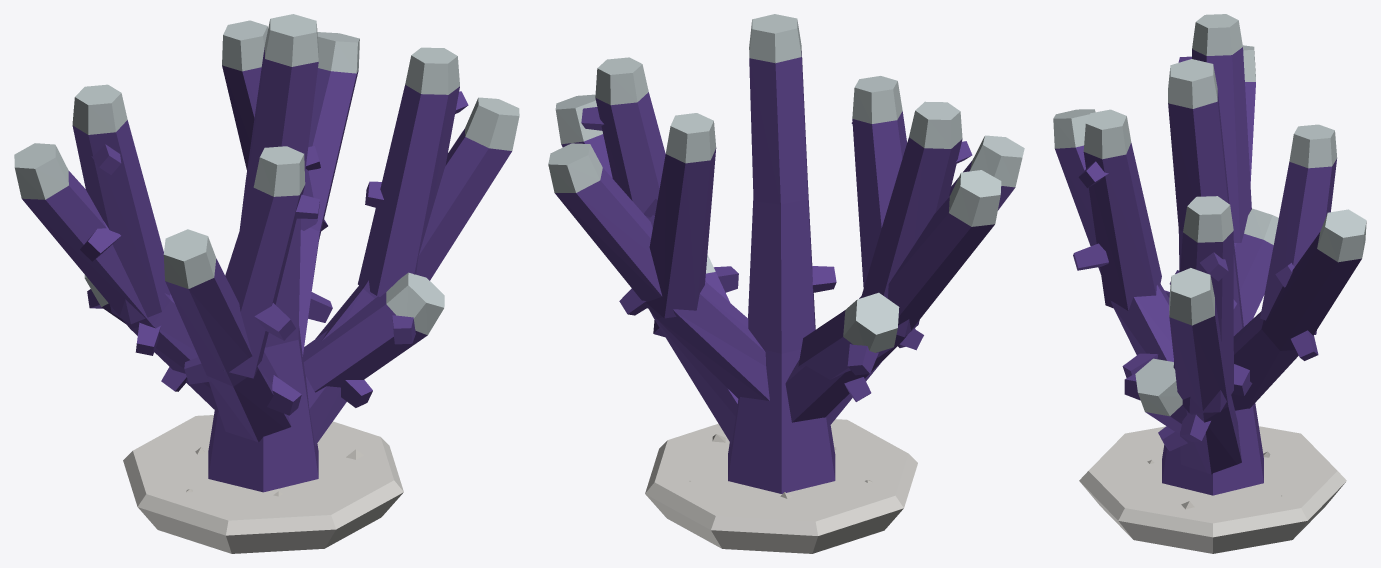
Rendered from staghorn-acropora-colony-c5c44d.glb.
3 renders of one model, left to right at view 1: azimuth 30°, elevation 25°; view 2: azimuth 150°, elevation 25°; view 3: azimuth 270°, elevation 25°, orthographic. The views are drawn at different scales.
Parts seen in each view (by area): view 1: staghorn-acropora-colony-shell; view 2: staghorn-acropora-colony-shell; view 3: staghorn-acropora-colony-shell.
Part boxes in pixels (x1,y1,x2,y2): staghorn-acropora-colony-shell: [14, 14, 519, 553]; staghorn-acropora-colony-shell: [548, 14, 1024, 553]; staghorn-acropora-colony-shell: [1053, 14, 1366, 553].
Size of the model in its own units: 0.2863 by 0.2752 by 0.1754.
